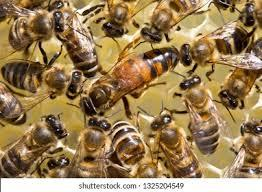Queen-Bee: (83, 37, 181, 129)
worker-bee: (0, 110, 70, 177), (176, 67, 227, 157), (183, 19, 252, 75), (146, 112, 200, 183), (50, 0, 103, 72), (215, 37, 262, 113), (0, 56, 83, 99), (4, 4, 70, 53), (80, 112, 113, 185), (232, 109, 262, 189)
